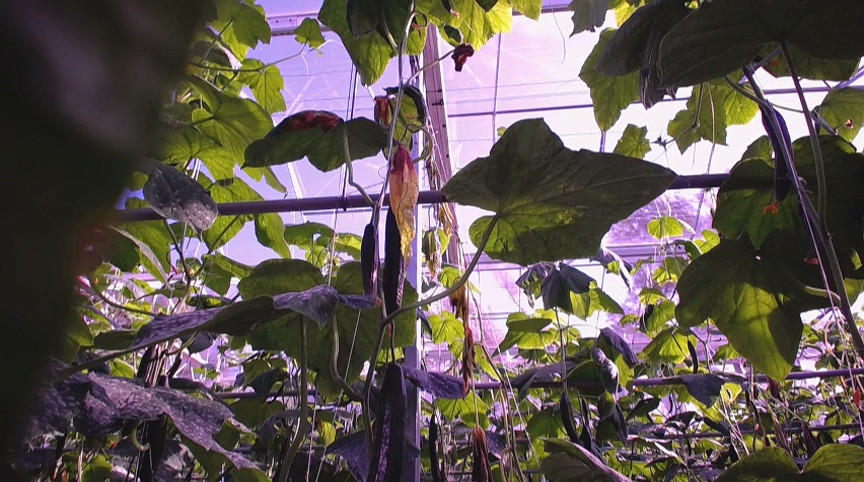cucumber: (366, 362, 408, 482), (759, 108, 791, 202), (383, 208, 407, 317), (361, 224, 377, 297)
